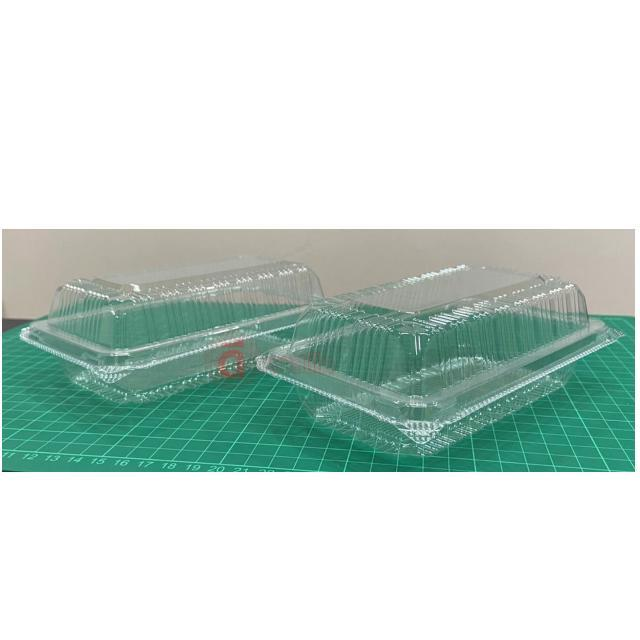PET Bottle: (266, 258, 630, 468), (8, 243, 323, 414)
